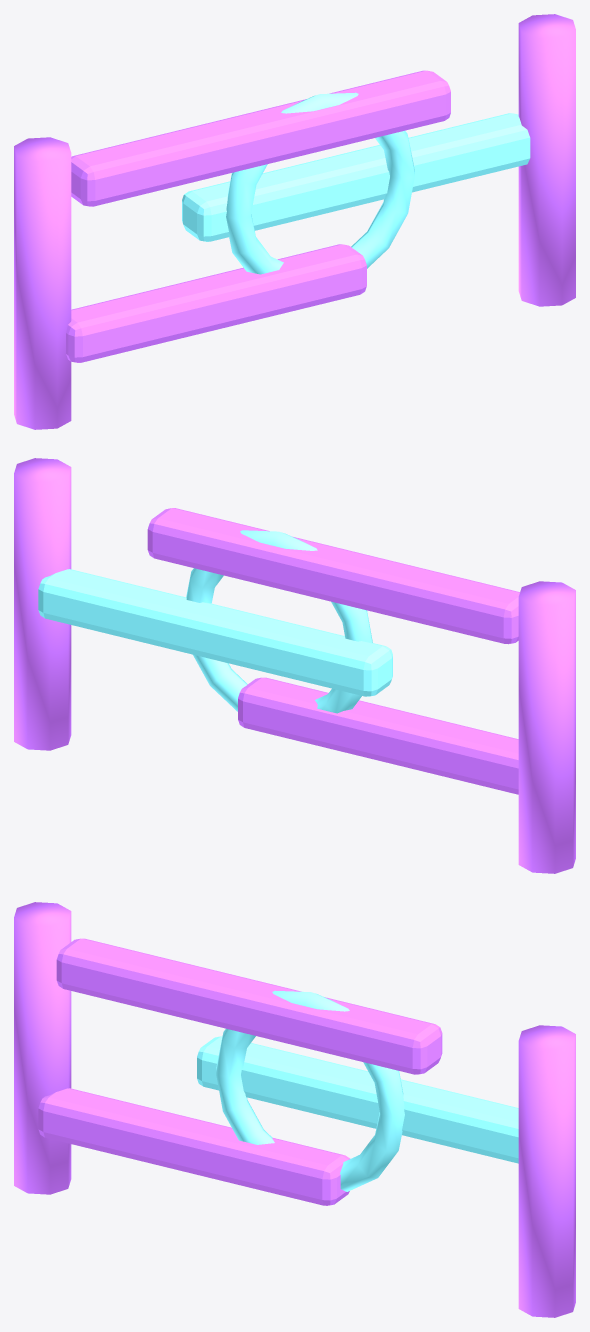
Rendered from wall-illusion.glb.
3 renders of one model, top to bottom at view 1: azimuth 30°, elevation 25°; view 2: azimuth 150°, elevation 25°; view 3: azimuth 330°, elevation 25°, orthographic.
Visible parts, largest first — view 1: mesh_wall_illusion_body, mesh_wall_illusion_echo; view 2: mesh_wall_illusion_body, mesh_wall_illusion_echo; view 3: mesh_wall_illusion_body, mesh_wall_illusion_echo.
Part boxes in pixels (<box>): mesh_wall_illusion_body: <box>14,14,575,429</box>; mesh_wall_illusion_echo: <box>182,92,530,274</box>; mesh_wall_illusion_body: <box>14,458,575,873</box>; mesh_wall_illusion_echo: <box>38,530,392,713</box>; mesh_wall_illusion_body: <box>14,902,575,1317</box>; mesh_wall_illusion_echo: <box>197,990,518,1191</box>.
Size of the model in its own units: 1.08 by 0.5 by 0.1332.
